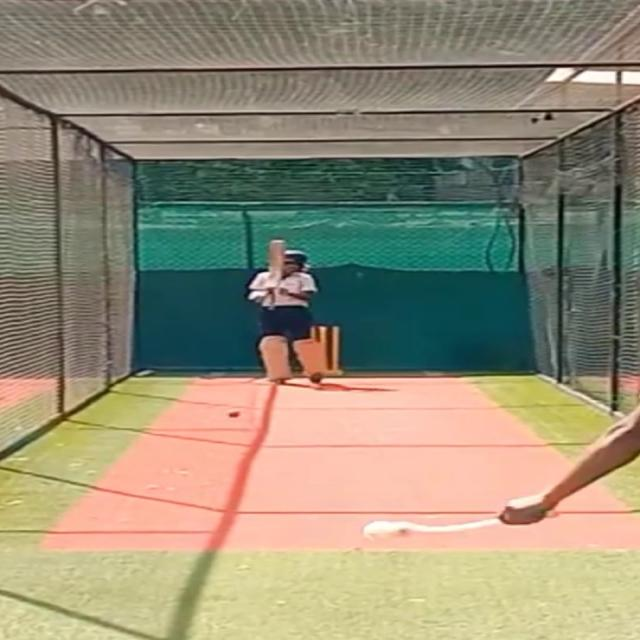ball: (228, 409, 243, 419)
stump: (319, 325, 345, 380)
